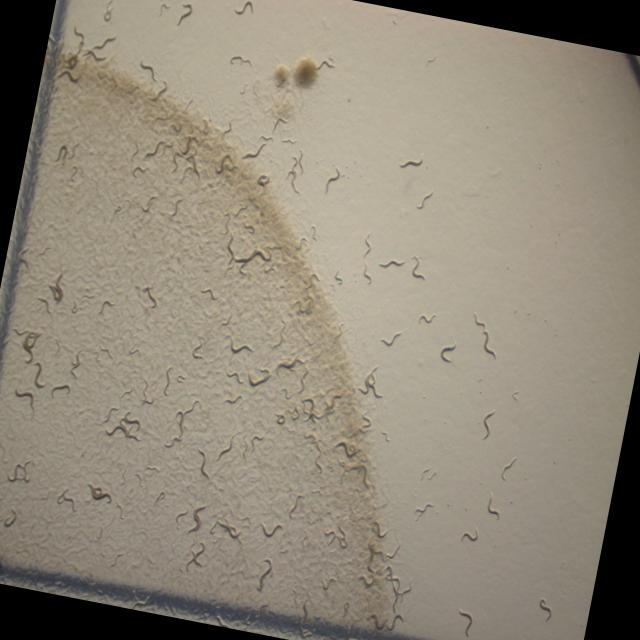filarid: (474, 313, 497, 367), (15, 389, 35, 417), (8, 460, 31, 483), (485, 491, 501, 521), (481, 409, 496, 440), (230, 335, 253, 355), (248, 368, 271, 387), (57, 488, 76, 511), (414, 501, 436, 520), (500, 457, 517, 480), (460, 526, 481, 544), (439, 343, 456, 364), (460, 609, 473, 636), (538, 598, 552, 622), (141, 287, 157, 308), (412, 255, 424, 280), (418, 313, 439, 326), (420, 466, 438, 481), (163, 366, 172, 395), (35, 362, 45, 388), (4, 507, 17, 527), (200, 450, 209, 478), (220, 439, 233, 457), (192, 338, 203, 359), (227, 370, 243, 384), (421, 191, 434, 205), (51, 385, 71, 394), (227, 395, 242, 403), (511, 389, 520, 402), (180, 413, 184, 429), (175, 437, 181, 442), (166, 443, 172, 447)
